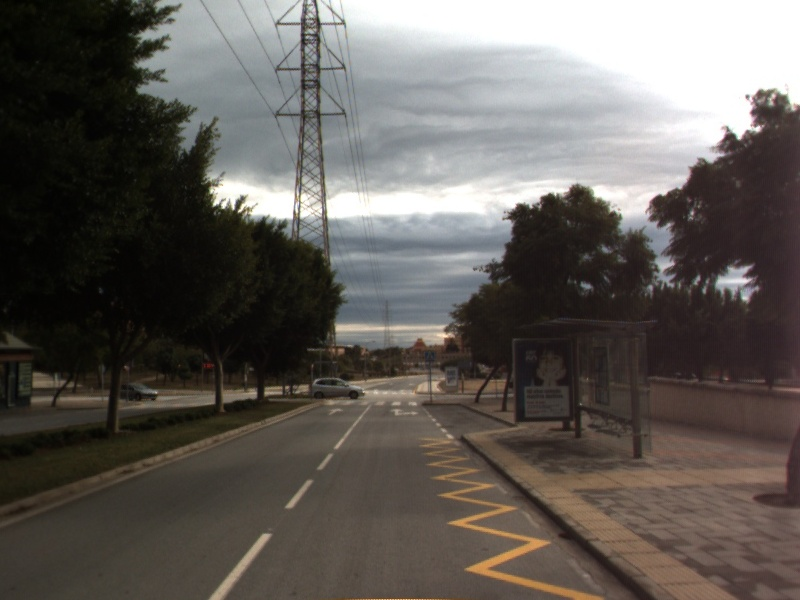STRAIGHT: (326, 406, 346, 417)
STRAIGHT_RIGHT: (388, 406, 421, 418)
